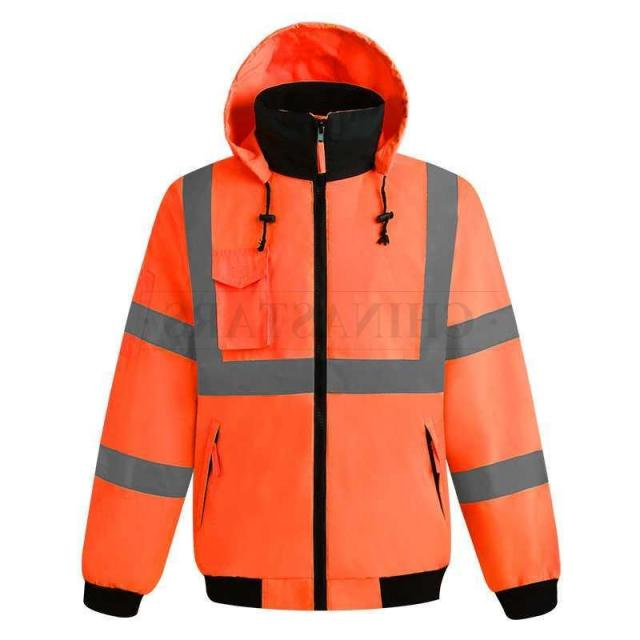Reflective-Jacket: (61, 137, 601, 640)
